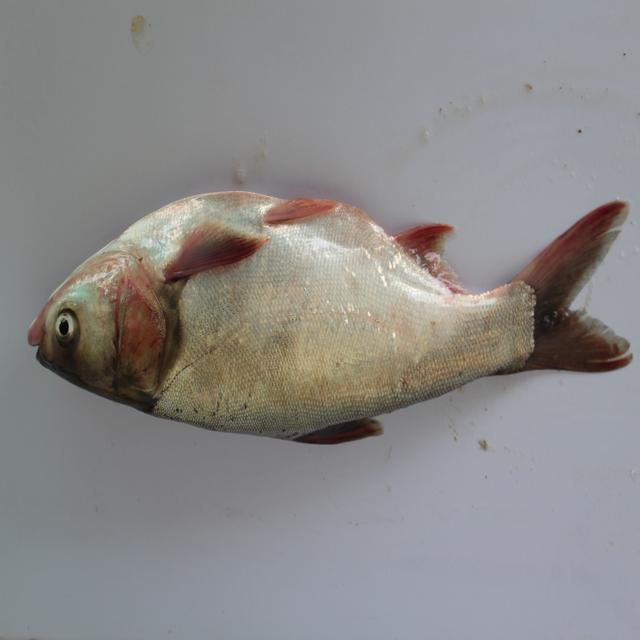SilverCarp: (36, 177, 623, 452)
